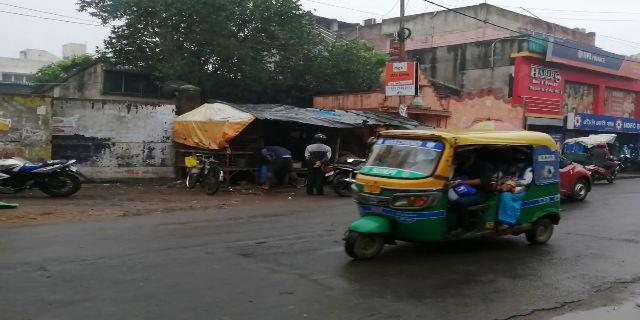Autorickshaw: (345, 133, 570, 254)
